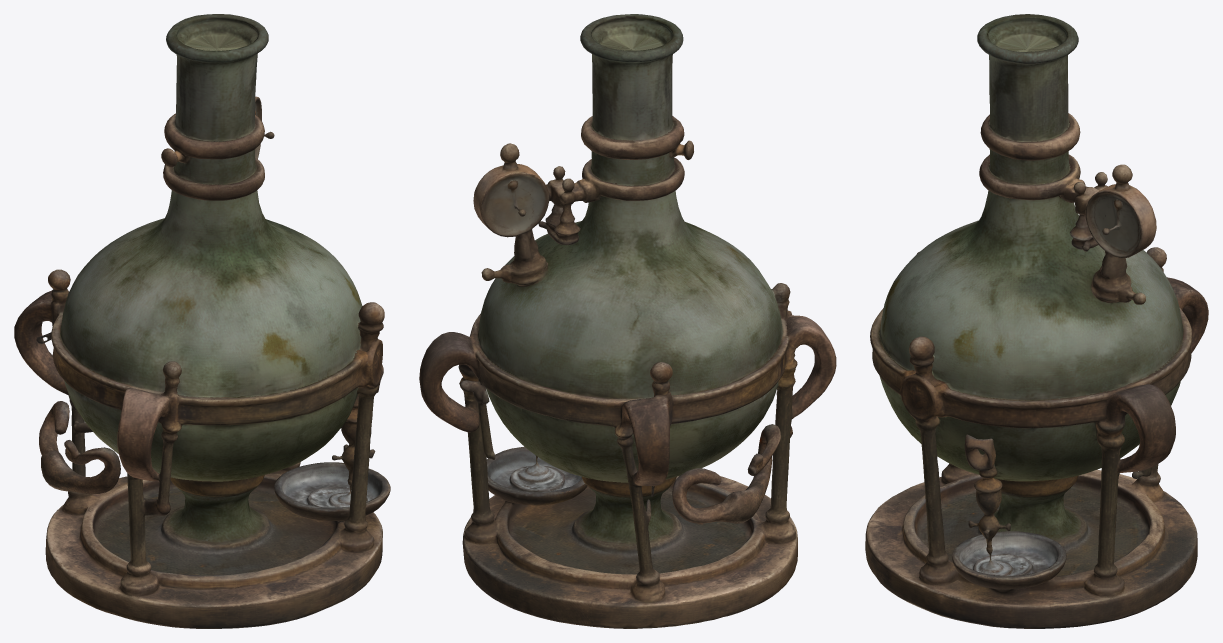
The model's file is prop_alembic.glb.
The picture shows the model from 3 angles, left to right: view 1: azimuth 30°, elevation 25°; view 2: azimuth 150°, elevation 25°; view 3: azimuth 270°, elevation 25°; orthographic projection.
Bounding box in the file's own units: 0.6084 × 1 × 0.5911.
1 material, 1 textured.
